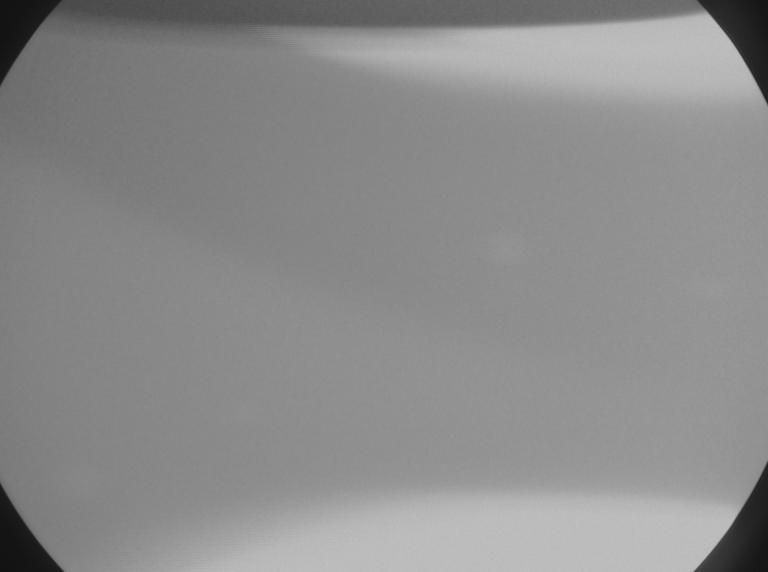defect: (54, 465, 112, 502)
